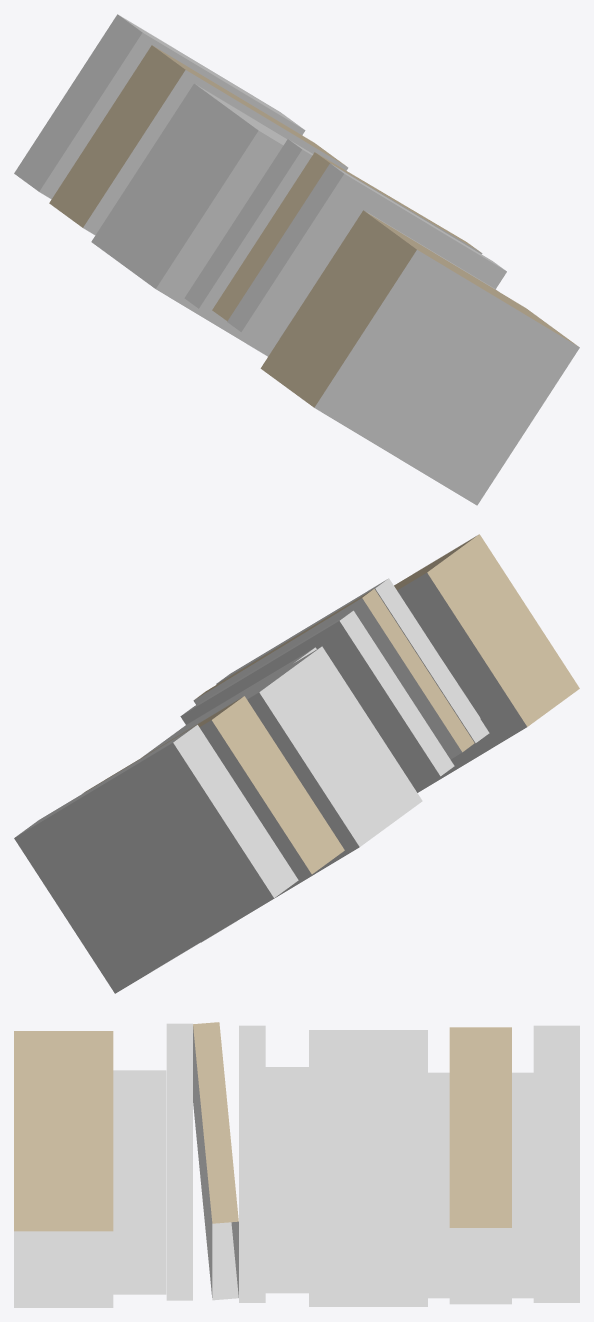
The model's file is SM_H_Government_Tide_Book_02B_ATLAS.fbx.
The picture shows the model from 3 angles, top to bottom: view 1: azimuth 30°, elevation 25°; view 2: azimuth 150°, elevation 25°; view 3: azimuth 270°, elevation 25°; orthographic projection. The views are drawn at different scales.
Visible parts, largest first — view 1: SM_H_Government_Tide_Book_02B_ATLAS_LOD0; view 2: SM_H_Government_Tide_Book_02B_ATLAS_LOD0; view 3: SM_H_Government_Tide_Book_02B_ATLAS_LOD0.
Part boxes in pixels (<box>): SM_H_Government_Tide_Book_02B_ATLAS_LOD0: <box>14,14,579,505</box>; SM_H_Government_Tide_Book_02B_ATLAS_LOD0: <box>14,534,579,993</box>; SM_H_Government_Tide_Book_02B_ATLAS_LOD0: <box>14,1022,579,1307</box>.
Bounding box in the file's own units: 46.69 × 89.98 × 46.08.
